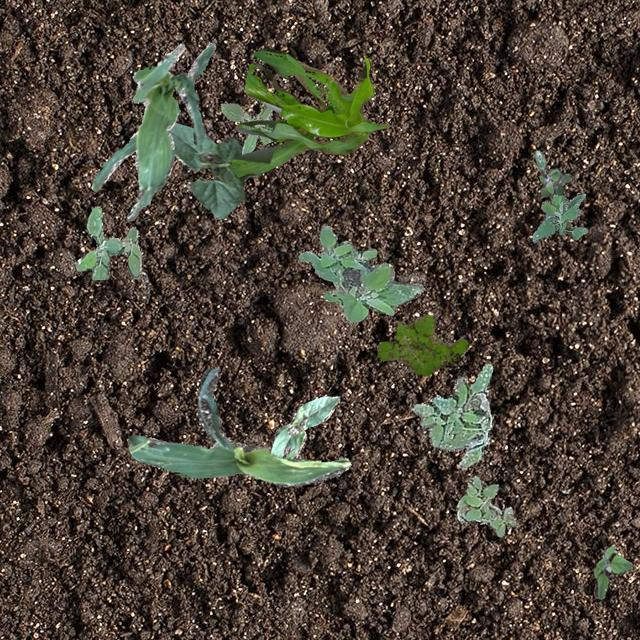crop: (126, 366, 350, 486), (90, 42, 214, 220), (226, 47, 388, 176), (166, 122, 262, 218), (270, 396, 338, 458)
weed: (298, 224, 422, 320), (411, 362, 492, 468), (376, 314, 466, 374), (74, 204, 140, 278), (454, 474, 514, 536), (220, 102, 272, 154), (532, 192, 586, 242), (592, 546, 632, 598), (534, 150, 570, 196)
